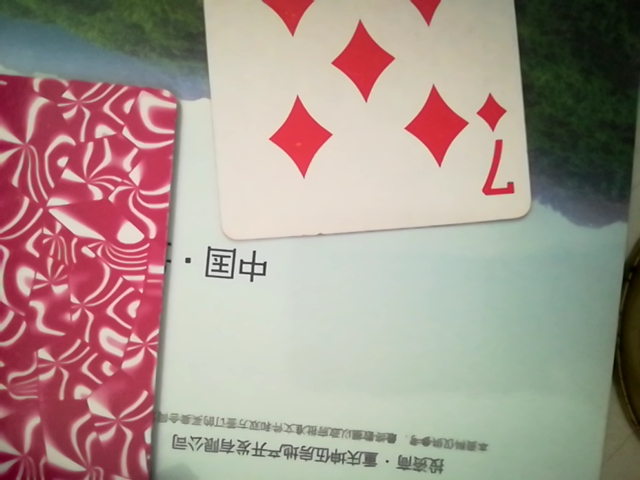fk 7: (199, 2, 532, 247)
